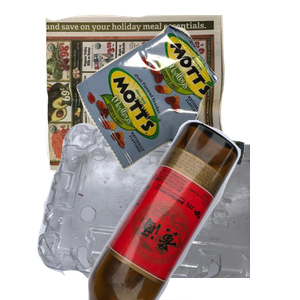glass: (85, 120, 300, 300)
paper: (42, 12, 260, 185)
plastic: (35, 120, 275, 300)
trash: (74, 22, 300, 185)
